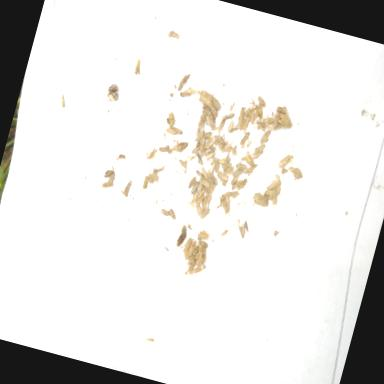pbw: (171, 138, 191, 155), (177, 72, 191, 94), (286, 164, 304, 180), (196, 166, 213, 182), (195, 130, 208, 150), (132, 57, 144, 78), (234, 222, 248, 240), (188, 143, 201, 162), (276, 115, 293, 129), (202, 135, 216, 152), (252, 121, 268, 135), (220, 140, 234, 156), (158, 143, 174, 157), (243, 103, 256, 120), (259, 128, 271, 146), (242, 152, 257, 166), (230, 177, 243, 193), (166, 206, 179, 222), (261, 115, 277, 128), (254, 95, 268, 109), (266, 178, 280, 192), (216, 170, 230, 184), (193, 204, 205, 220), (226, 122, 239, 136), (251, 147, 263, 162), (196, 231, 211, 243), (140, 175, 150, 192), (189, 181, 199, 198), (276, 158, 289, 171), (275, 104, 289, 116), (216, 118, 226, 134), (240, 131, 250, 147), (176, 158, 189, 170), (204, 150, 216, 163), (194, 169, 207, 181), (222, 110, 235, 122), (178, 90, 192, 101), (212, 160, 222, 175), (158, 206, 170, 218), (242, 220, 252, 234), (195, 188, 205, 202), (254, 107, 264, 120), (164, 127, 178, 136), (194, 155, 205, 166), (172, 126, 184, 136), (180, 225, 189, 238), (230, 144, 238, 158)
